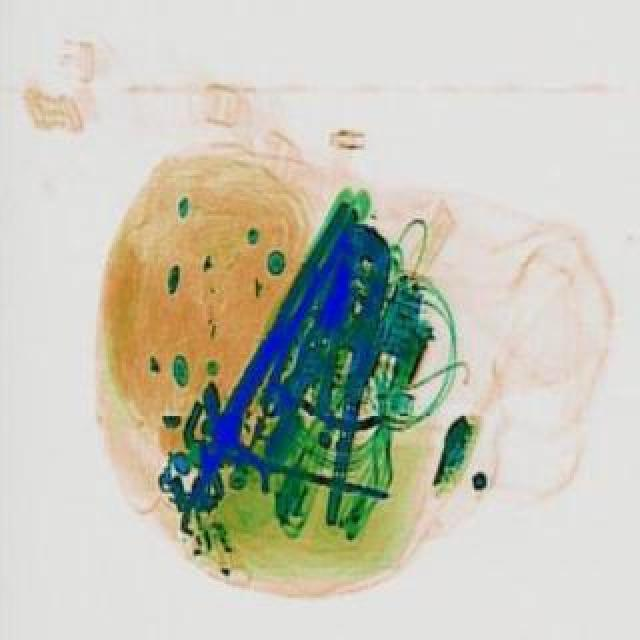wrench: (242, 218, 418, 530)
